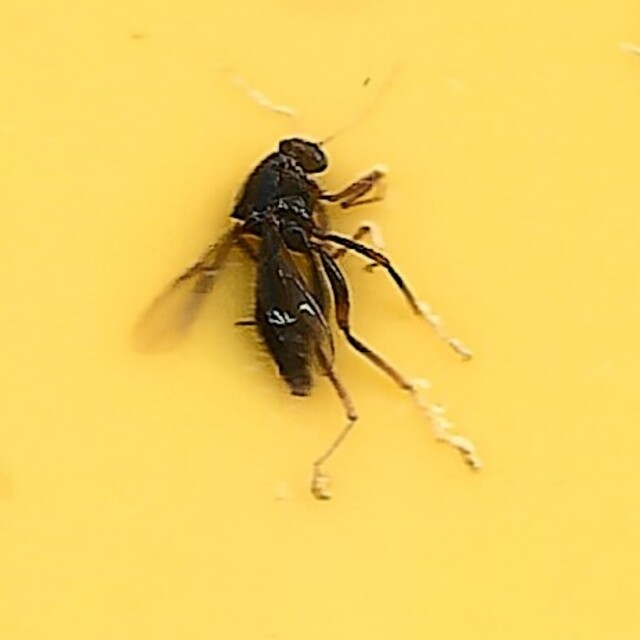Brachycera: (138, 134, 502, 506)
